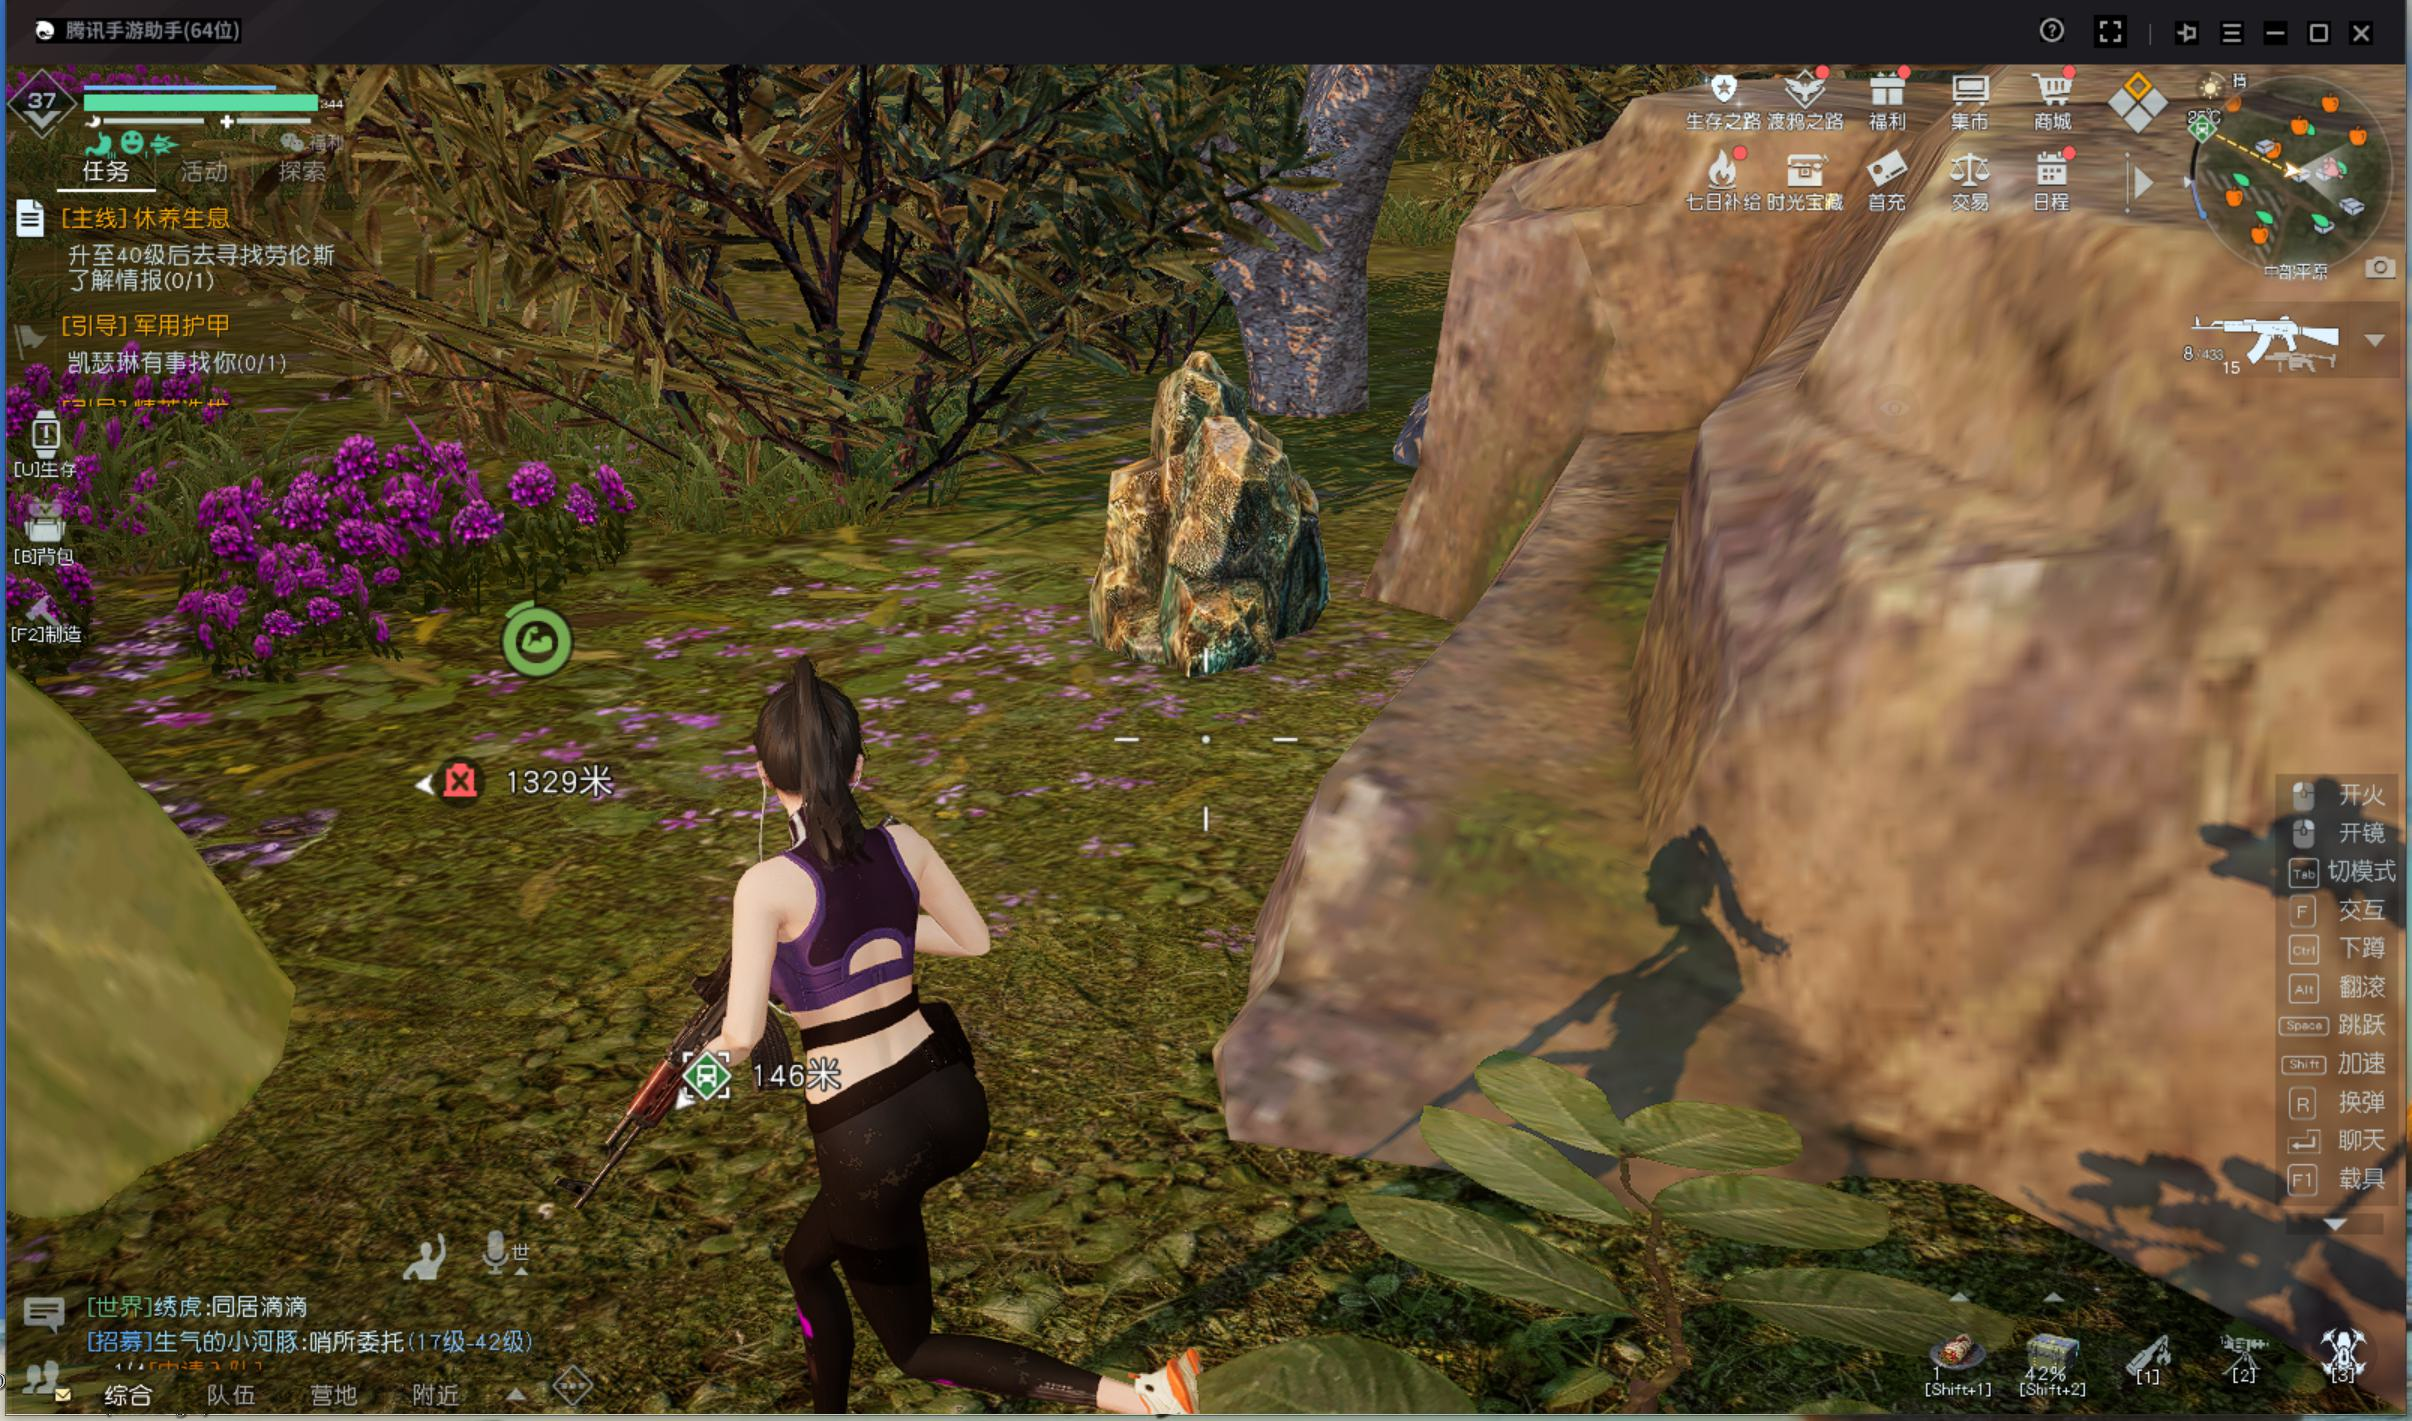stone: (1044, 352, 1362, 692)
